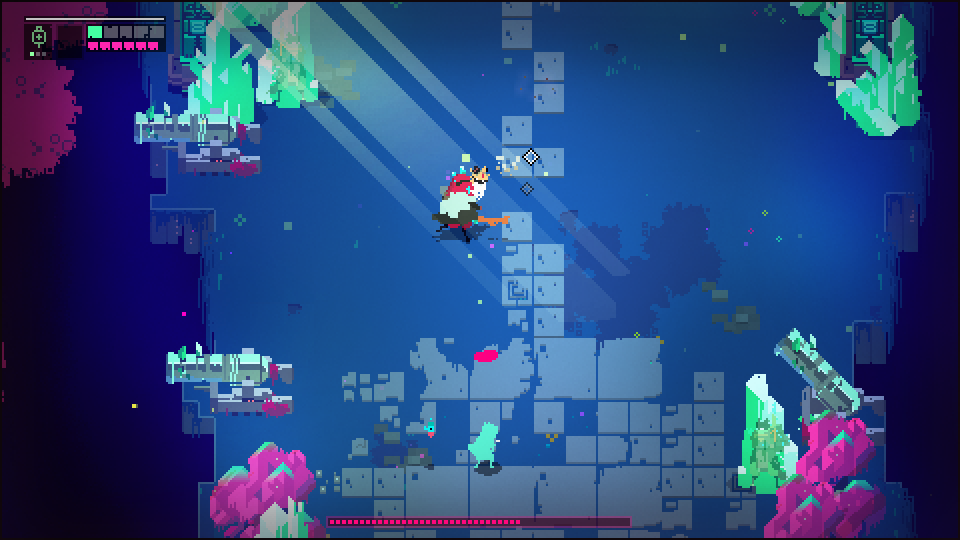hanged_man: (430, 161, 512, 242)
player: (468, 420, 503, 478)
